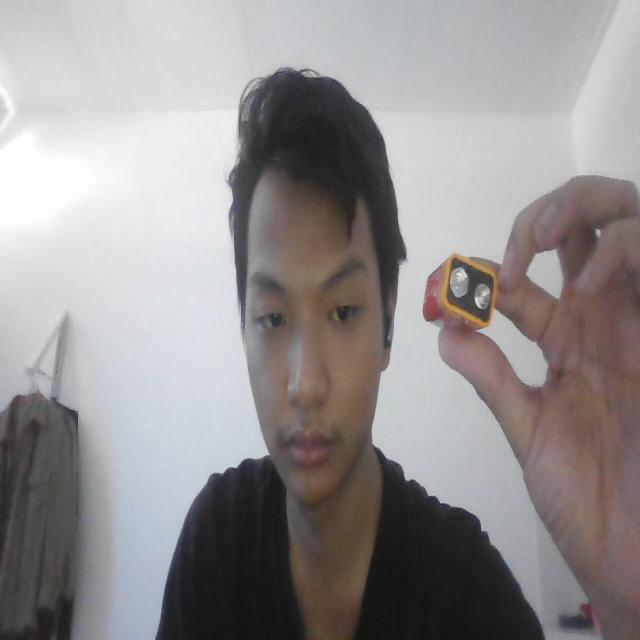Hazard: (421, 228, 503, 332)
